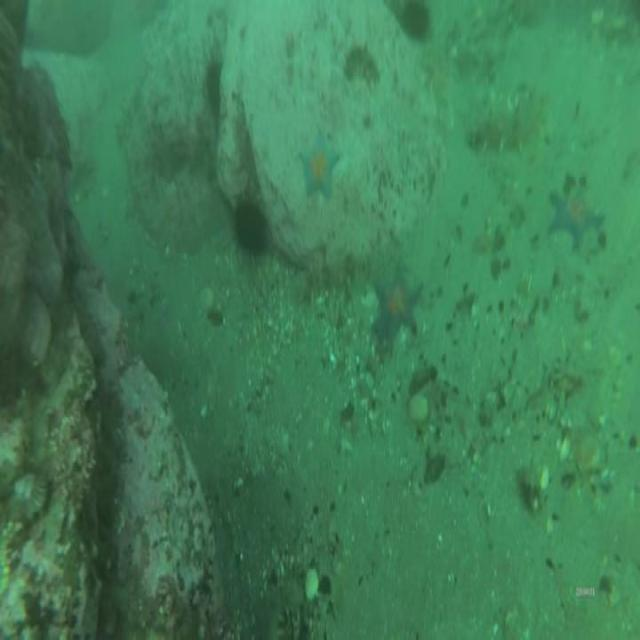echinus: (236, 201, 266, 253), (204, 60, 222, 114), (401, 5, 428, 36)
holothurian: (469, 106, 530, 150), (344, 41, 381, 87)
starfish: (550, 186, 603, 245), (374, 270, 422, 334), (299, 133, 337, 196)
